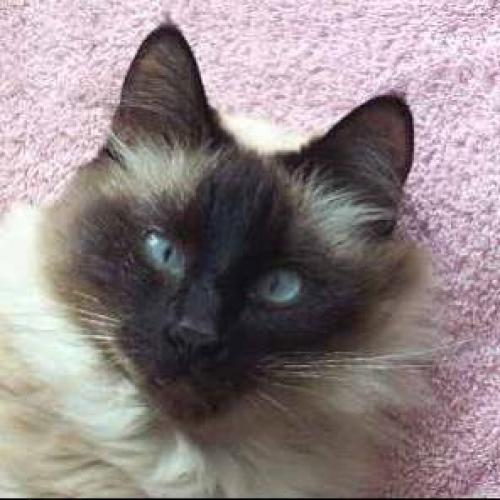ragdoll: (53, 16, 422, 444)
